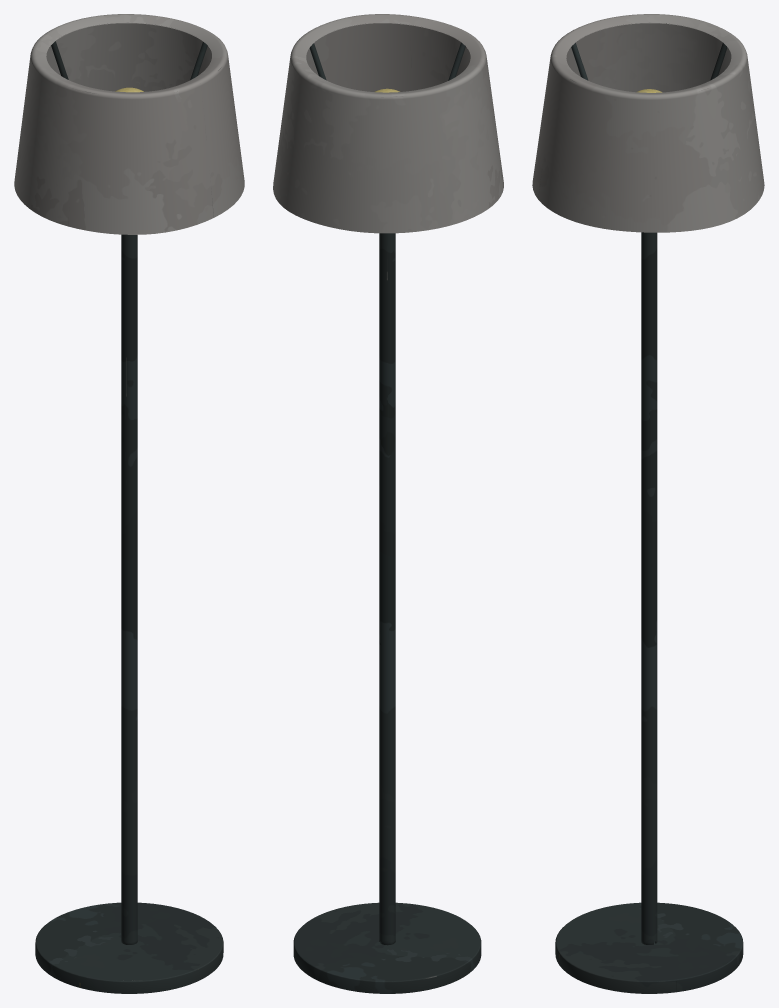
Rendered from lamp2_AS.fbx.
3 views of the same model, side by side, from view 1: azimuth 30°, elevation 25°; view 2: azimuth 150°, elevation 25°; view 3: azimuth 270°, elevation 25° (orthographic).
Parts seen in each view (by area): view 1: Bakegroup_BAKED; view 2: Bakegroup_BAKED; view 3: Bakegroup_BAKED.
Boxes of the visible parts, x1,y1,x2,y2 form: Bakegroup_BAKED: (14,14,244,993); Bakegroup_BAKED: (273,14,503,993); Bakegroup_BAKED: (532,14,764,993).
Size of the model in its own units: 32.59 by 141 by 32.93.
